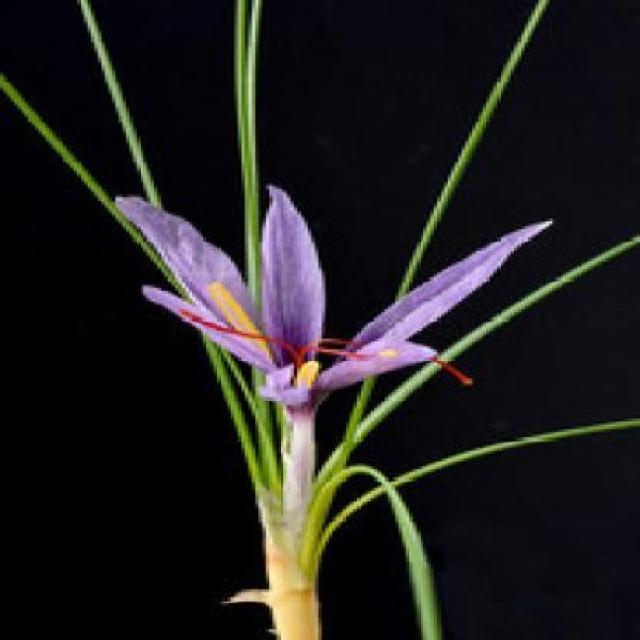Flower: (111, 185, 551, 421)
stigma: (299, 337, 476, 387), (178, 308, 306, 369), (281, 345, 382, 366)
